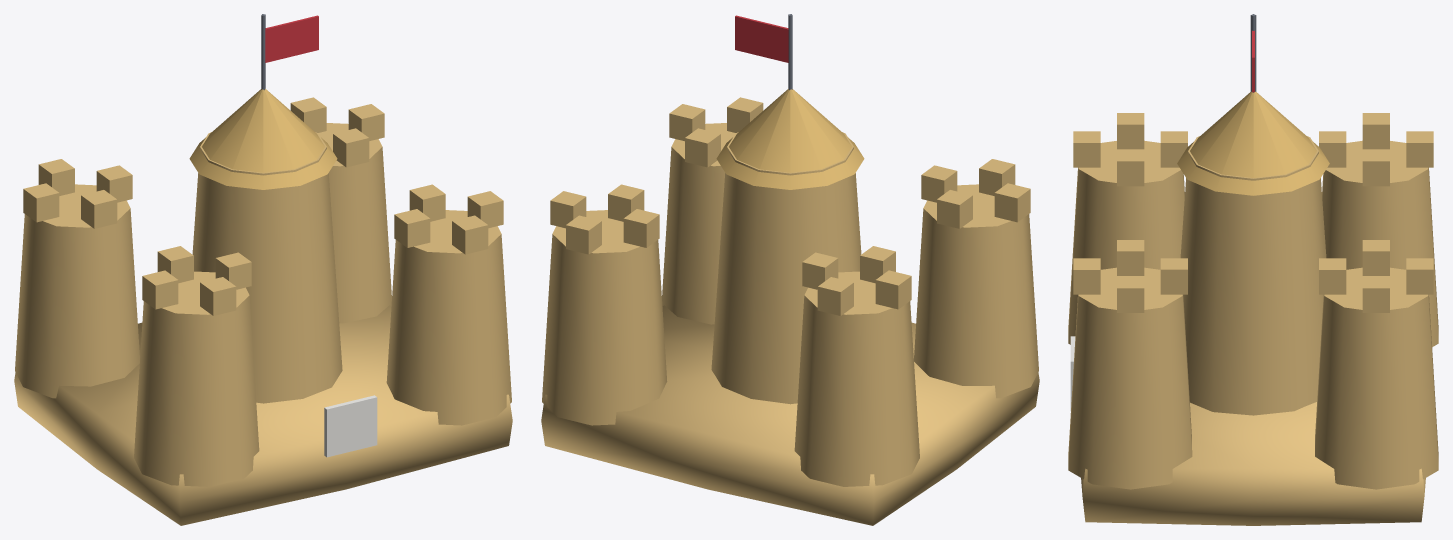
File: sand_castle.glb
3 views of the same model, side by side, from view 1: azimuth 30°, elevation 25°; view 2: azimuth 150°, elevation 25°; view 3: azimuth 270°, elevation 25° (orthographic). The views are drawn at different scales.
Visible parts, largest first — view 1: root; view 2: root; view 3: root.
Part boxes in pixels (<box>): root: <box>14,14,512,525</box>; root: <box>541,14,1039,525</box>; root: <box>1068,14,1438,525</box>.
Size of the model in its own units: 1.58 by 1.75 by 1.36.
